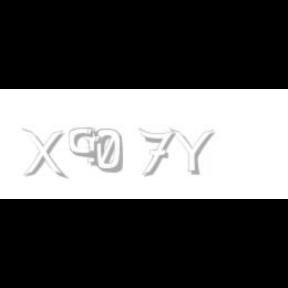0: (96, 128, 127, 174)
7: (138, 128, 176, 178)
X: (21, 128, 65, 180)
Y: (169, 128, 215, 176)
c: (68, 128, 97, 160)
t: (84, 128, 106, 168)
